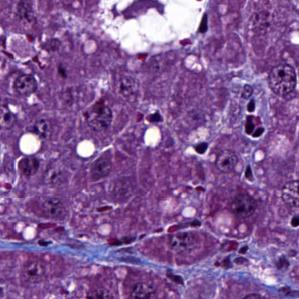ballooning: (98, 5, 209, 57)
